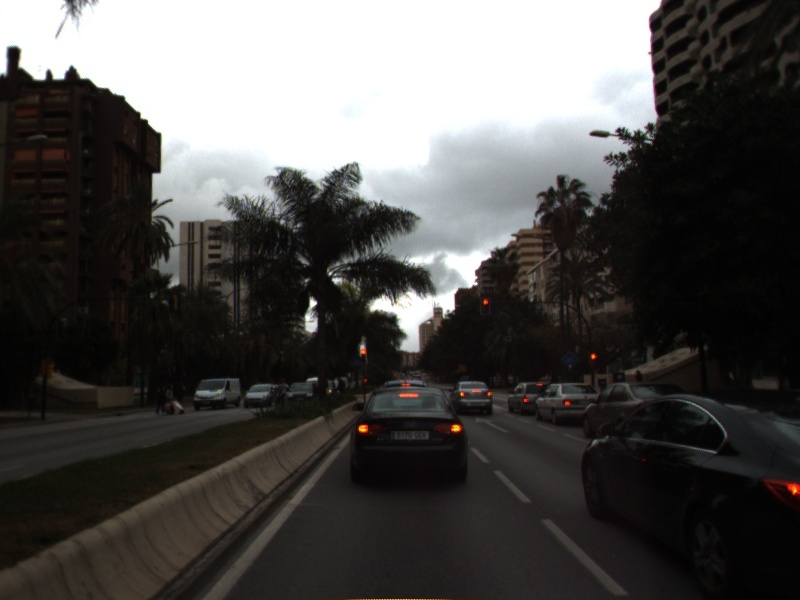STRAIGHT: (473, 414, 512, 435)
